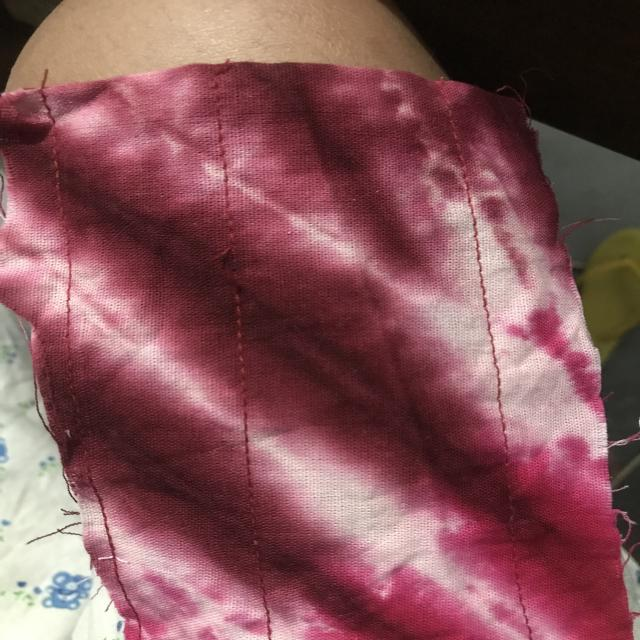broken: (197, 236, 261, 306)
good: (461, 277, 524, 385)
